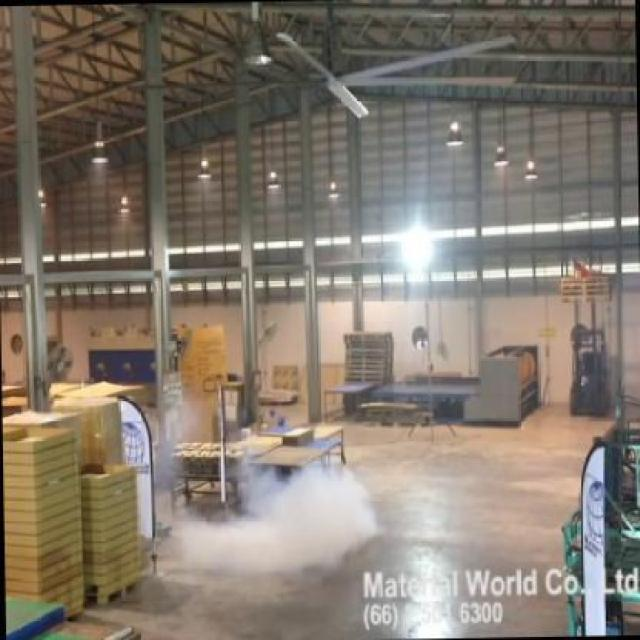fire: (202, 472, 384, 578)
